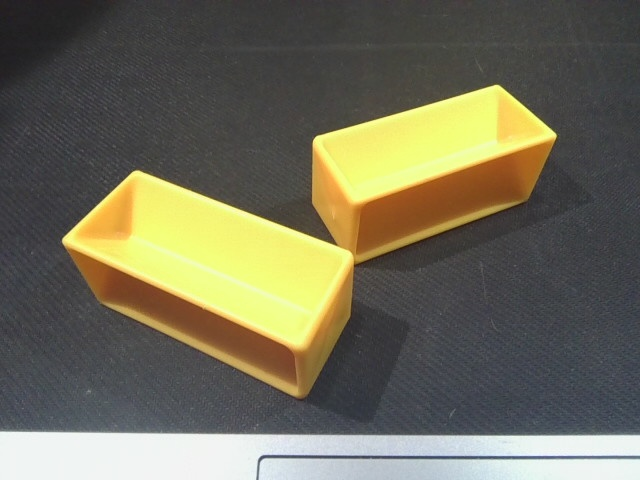YellowSample: (58, 158, 362, 406), (304, 81, 559, 268)
